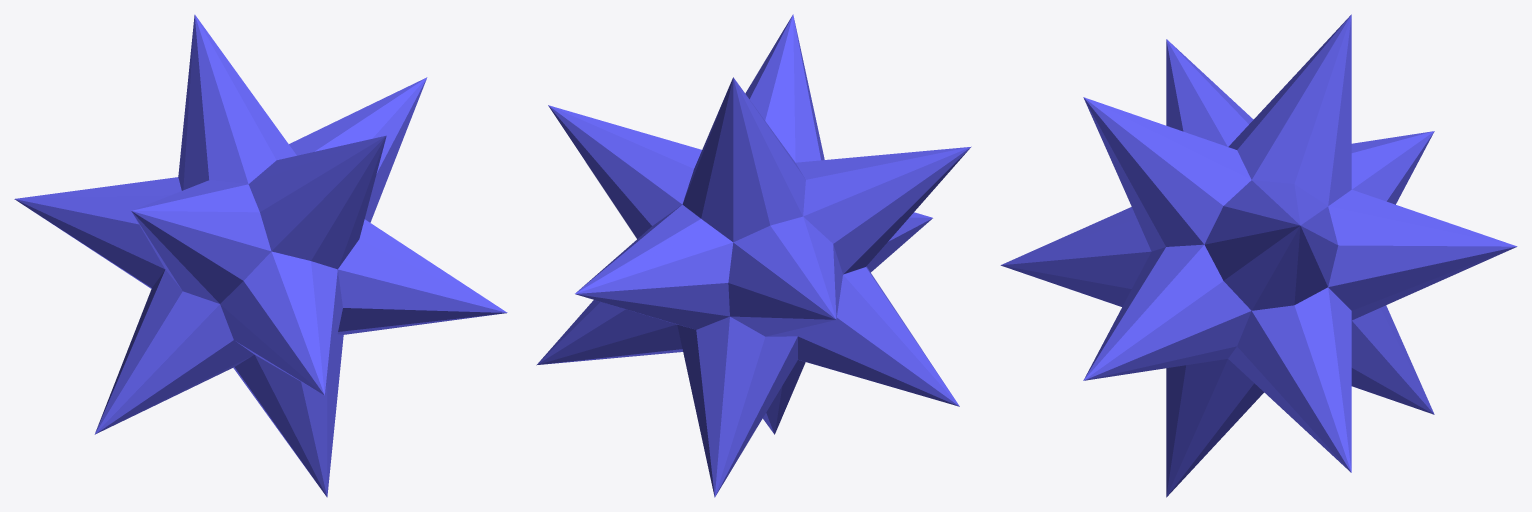
Rendered from small_dodecicosacron.obj.
3 views of the same model, side by side, from view 1: azimuth 30°, elevation 25°; view 2: azimuth 150°, elevation 25°; view 3: azimuth 270°, elevation 25° (orthographic). The views are drawn at different scales.
Parts seen in each view (by area): view 1: Shape_IndexedFaceSet; view 2: Shape_IndexedFaceSet; view 3: Shape_IndexedFaceSet.
Part boxes in pixels (x1=…): Shape_IndexedFaceSet: x1=14, y1=14, x2=507, y2=497; Shape_IndexedFaceSet: x1=536, y1=14, x2=971, y2=497; Shape_IndexedFaceSet: x1=1000, y1=14, x2=1517, y2=497.
Size of the model in its own units: 4.72 by 5.24 by 5.34.
